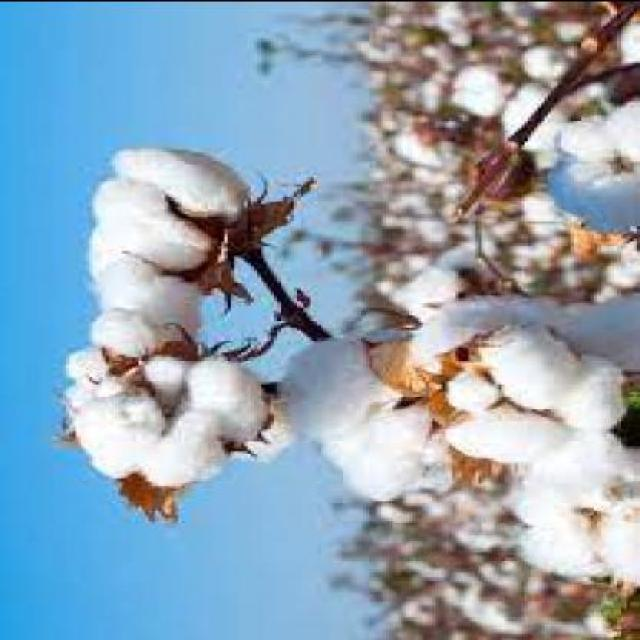cotton_ready: (418, 272, 637, 596), (39, 126, 287, 348), (37, 302, 274, 529), (300, 241, 458, 534)
